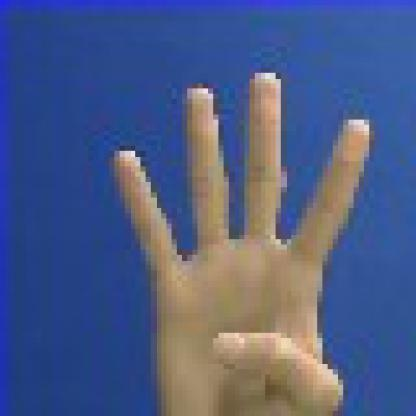four: (88, 52, 385, 411)
